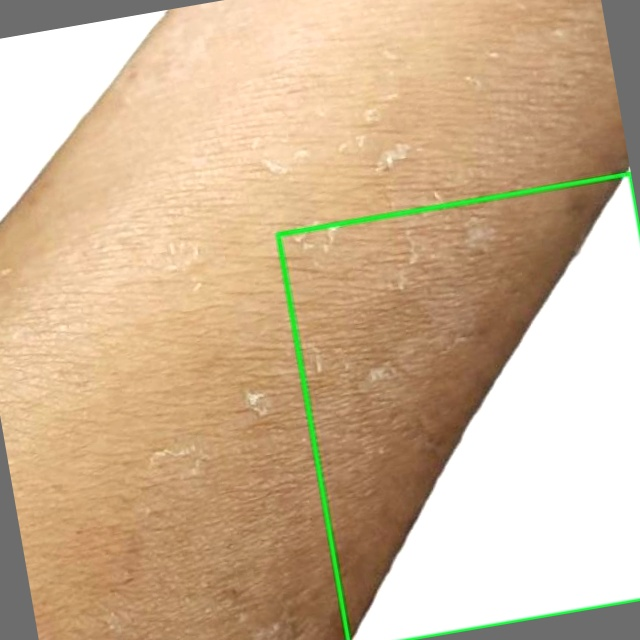Tinea Corporis: (278, 173, 639, 639)
